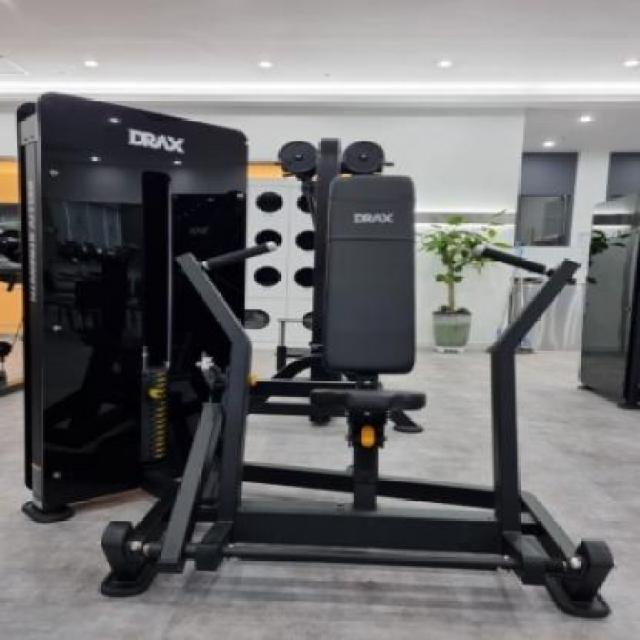Chest Press machine: (14, 88, 640, 624)
